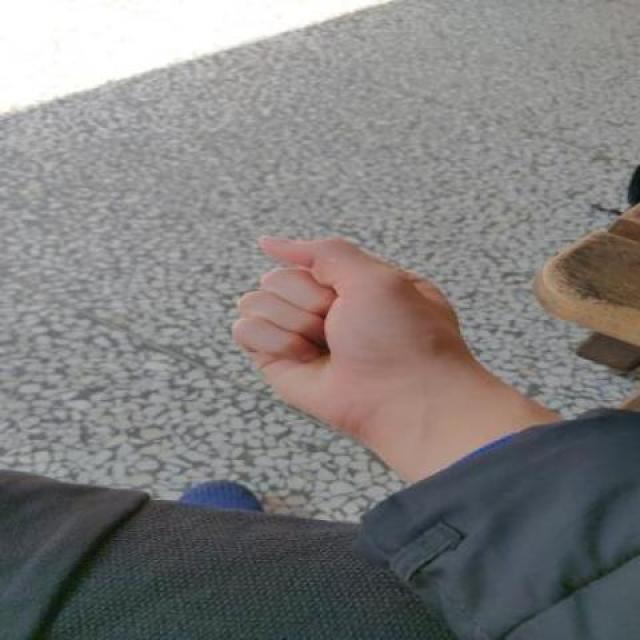Closed Hand: (230, 213, 478, 443)
